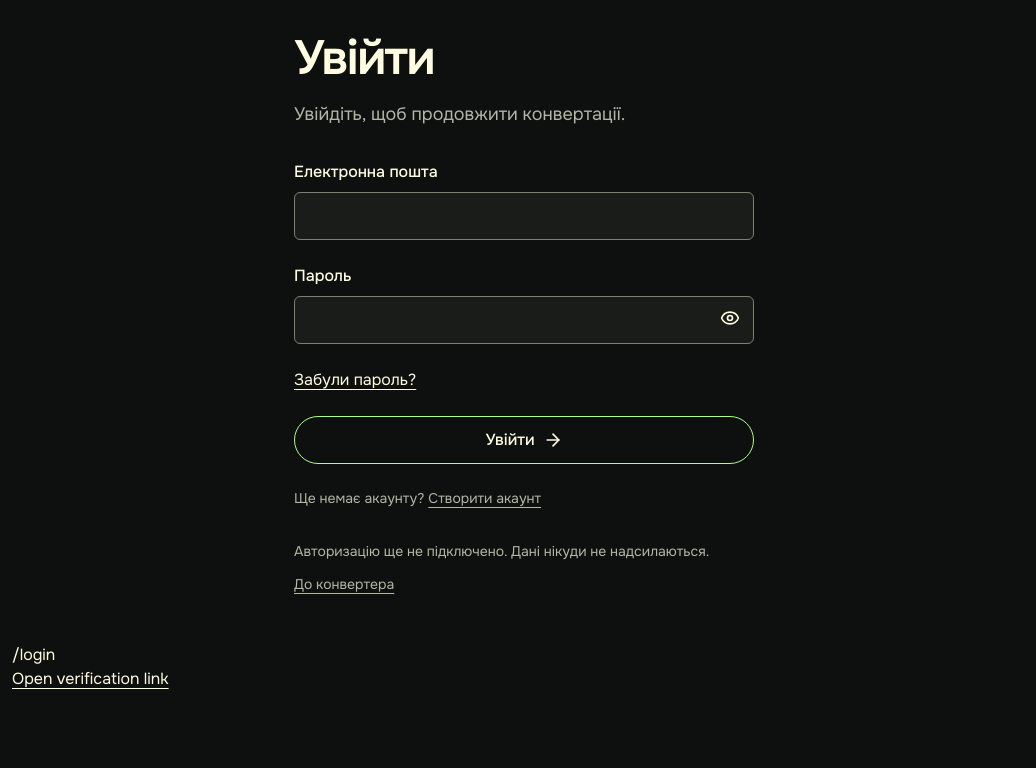
validates and focuses invalid fields without sending production credentials
Click the button "Увійти". click: (524, 440)
box: [294, 416, 754, 464]
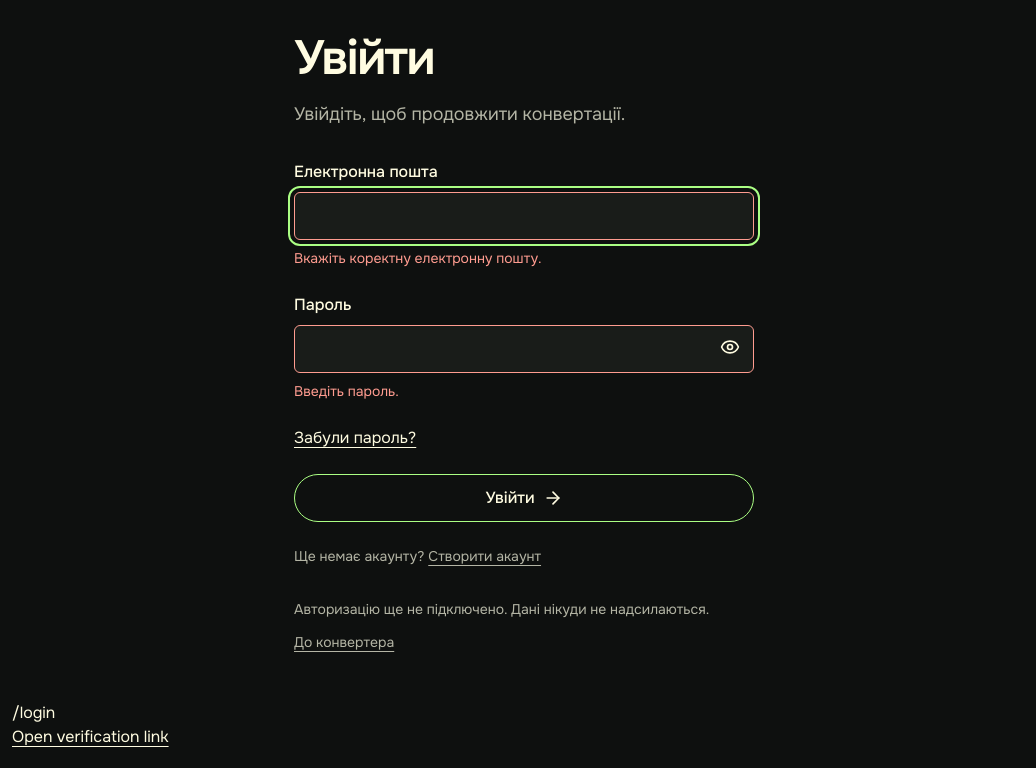
Check: the text "Вкажіть коректну електронну пошту." is shown, box [294, 249, 542, 267]
Type "reader@example.test" into the field labelled "Електронна пошта". click: (524, 216)
box: [294, 192, 754, 240]
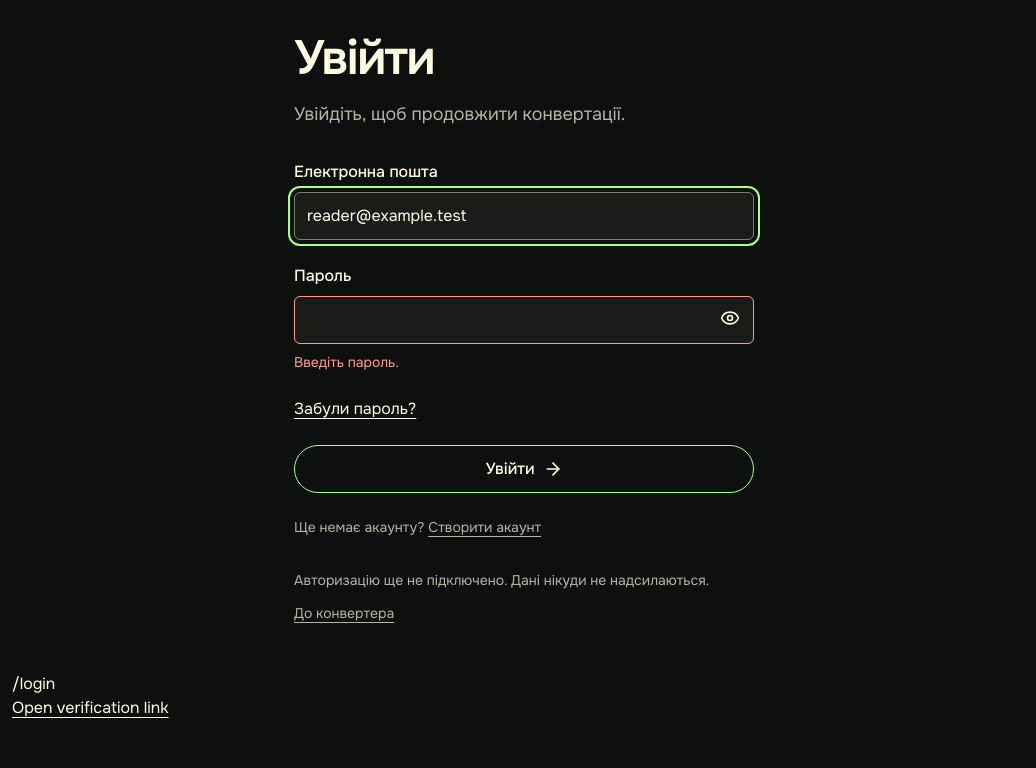
Type "synthetic-password" into the password field labelled "Пароль". click: (524, 320)
box: [294, 296, 754, 344]
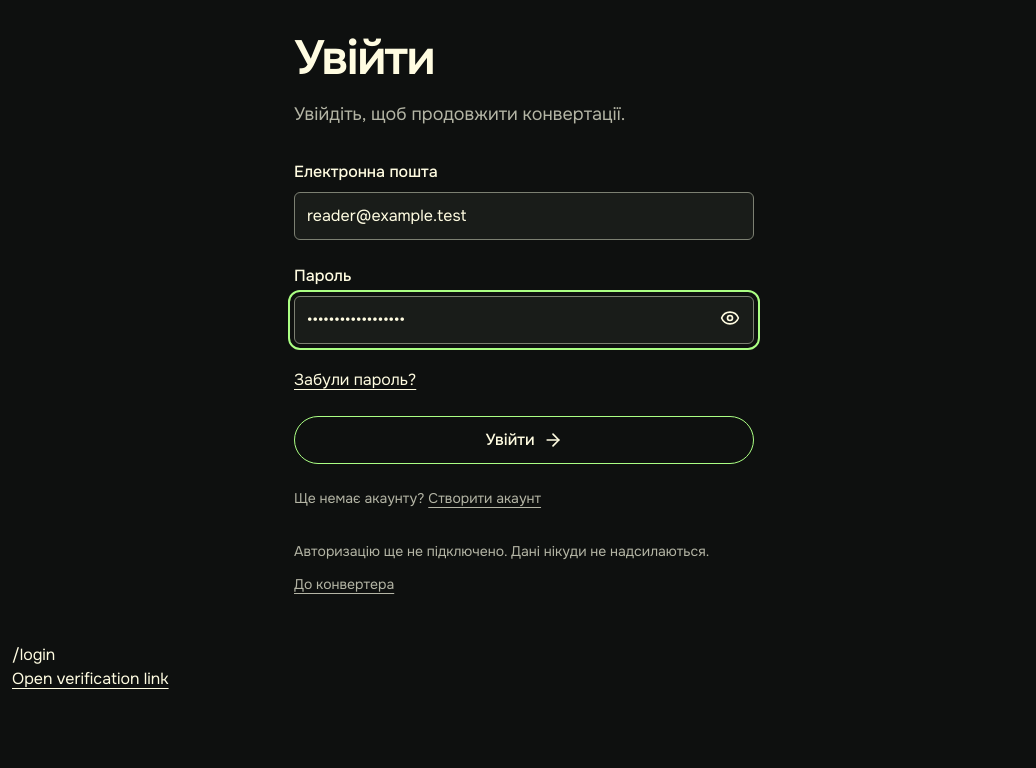
Click the button named "Показати: пароль". click: (730, 318)
box: [708, 296, 752, 340]
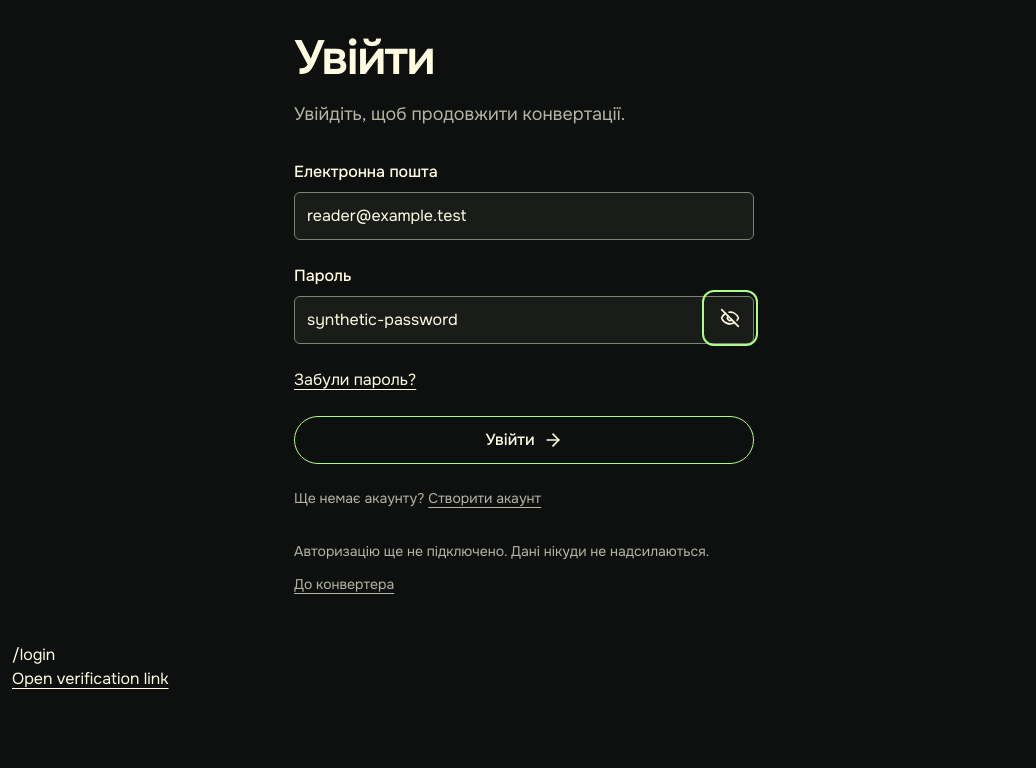
Check: the field labelled "Пароль" shows its text, box [294, 296, 754, 344]
Click the button "Увійти". click: (524, 440)
box: [294, 416, 754, 464]
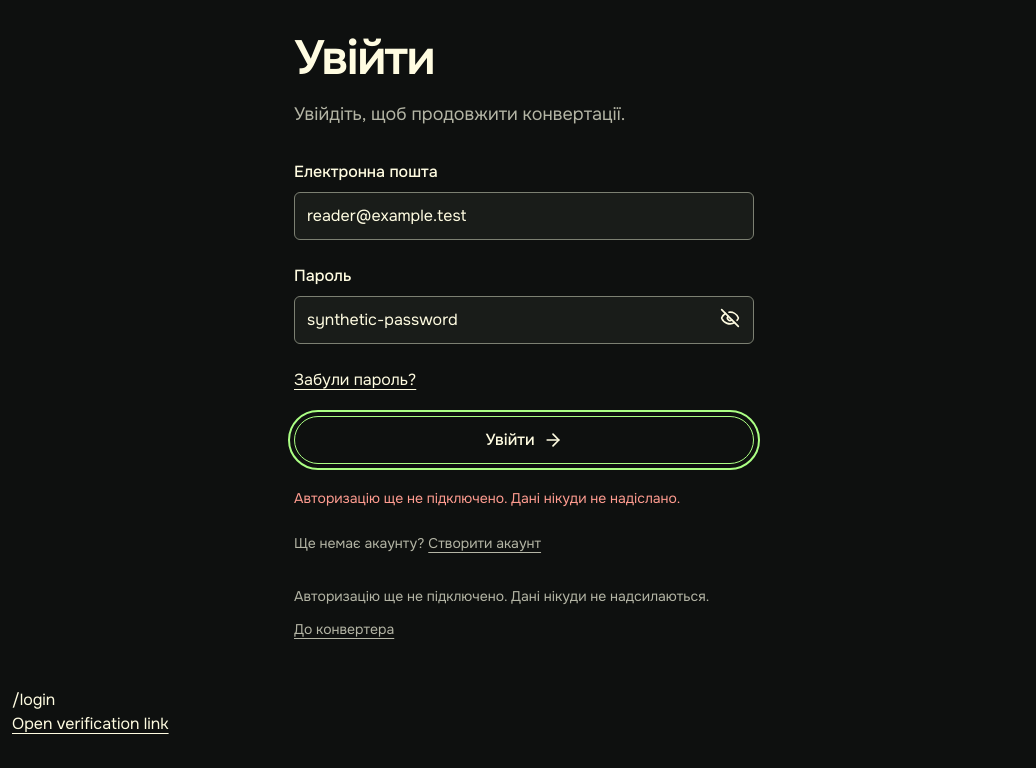
Check: the text named "Current route" reads "/login", box [12, 689, 55, 710]
Check: the text "Авторизацію ще не підключено. Дані нікуди не надіслано." is shown, box [294, 489, 680, 507]
